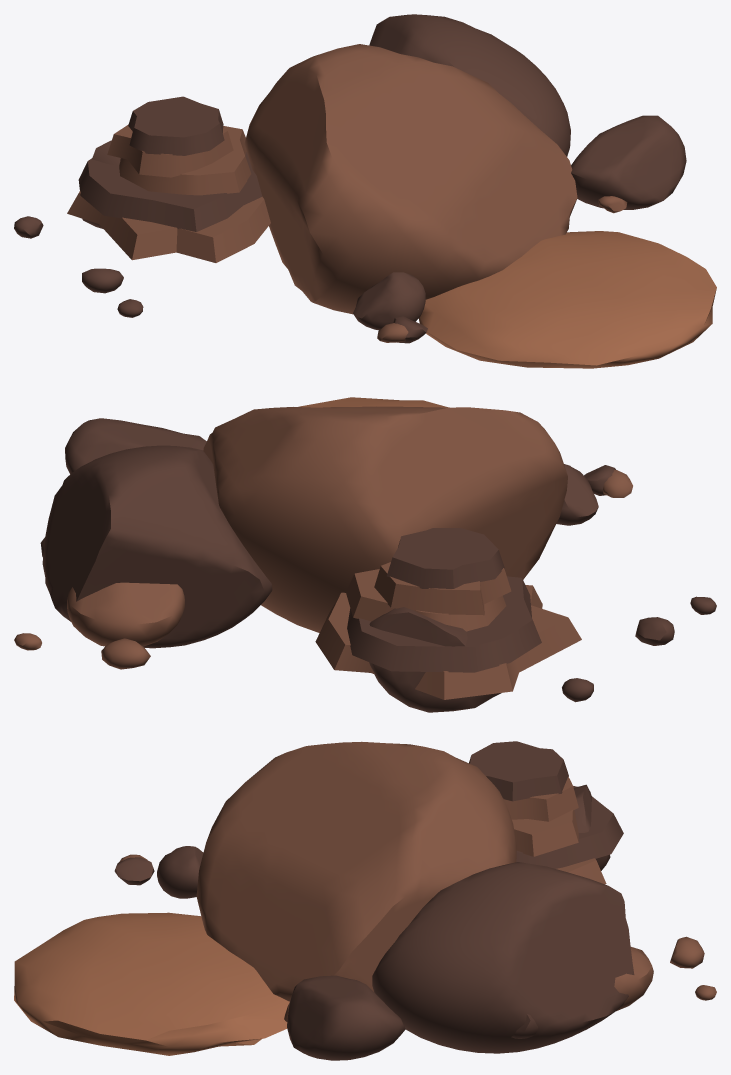
Rendered from boulder.glb.
3 views of the same model, one above another, from view 1: azimuth 30°, elevation 25°; view 2: azimuth 150°, elevation 25°; view 3: azimuth 270°, elevation 25° (orthographic). The views are drawn at different scales.
Visible parts, largest first — view 1: boulder; view 2: boulder; view 3: boulder.
Boxes of the visible parts, left/top/right/bottom form: boulder: left=14, top=14, right=716, bottom=368; boulder: left=14, top=397, right=716, bottom=712; boulder: left=14, top=741, right=716, bottom=1060.
Bounding box in the file's own units: 13.12 × 4.89 × 13.68.
